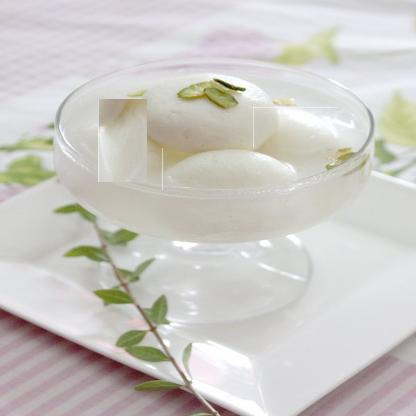rasgulla: (138, 73, 280, 153), (162, 148, 297, 190), (90, 107, 156, 174), (253, 107, 338, 154)
